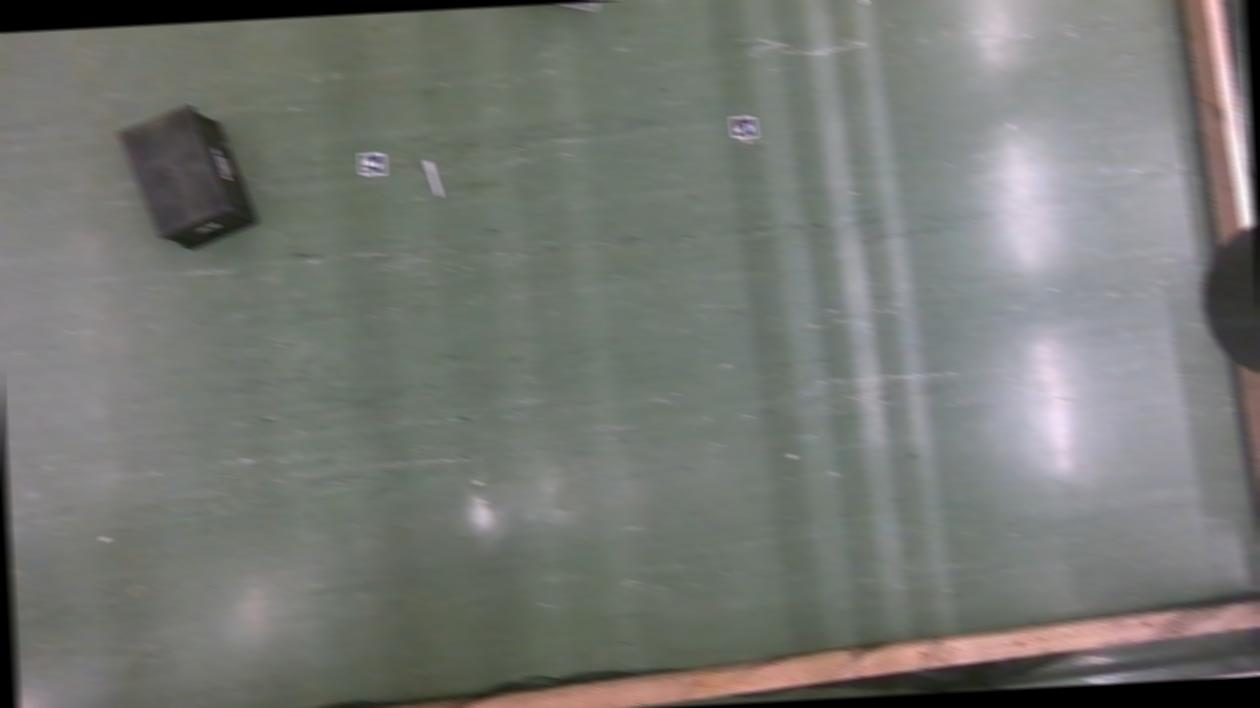probes: (424, 160, 444, 199), (858, 0, 883, 4)
rako: (116, 103, 260, 255)
